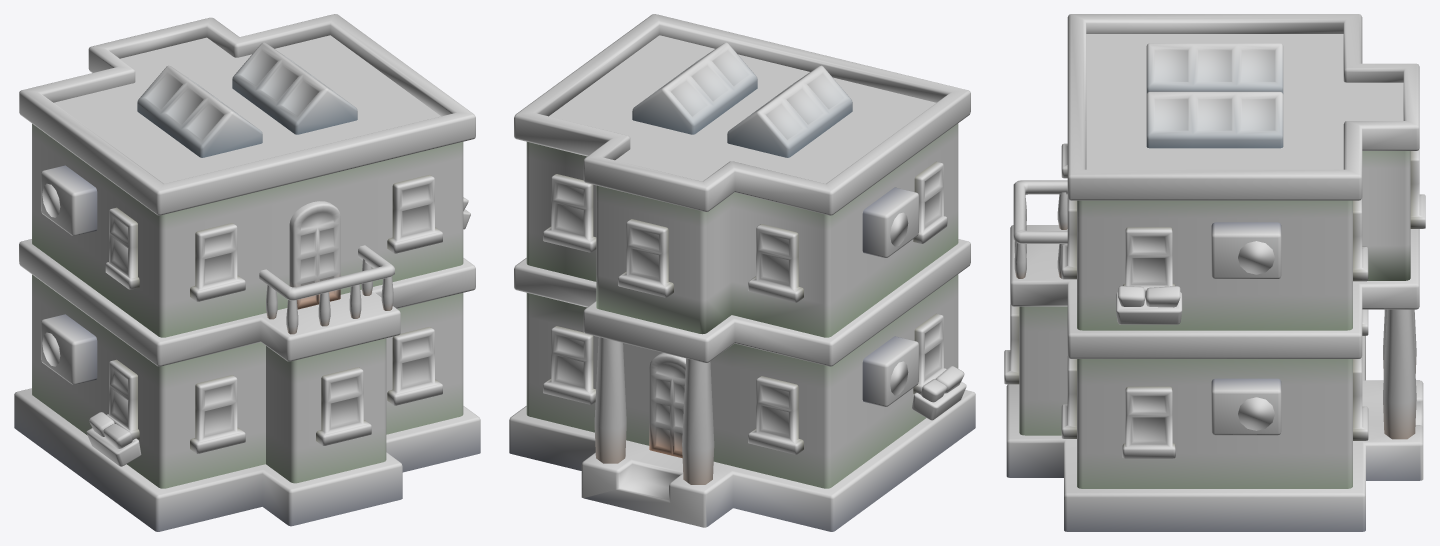
File: Building_029.fbx
3 views of the same model, side by side, from view 1: azimuth 30°, elevation 25°; view 2: azimuth 150°, elevation 25°; view 3: azimuth 270°, elevation 25° (orthographic). The views are drawn at different scales.
Parts seen in each view (by area): view 1: Building_029; view 2: Building_029; view 3: Building_029.
Part boxes in pixels (left/top/right/bottom): Building_029: left=14, top=14, right=480, bottom=531; Building_029: left=509, top=14, right=975, bottom=531; Building_029: left=1004, top=14, right=1425, bottom=531.
Bounding box in the file's own units: 937 × 916 × 914.
